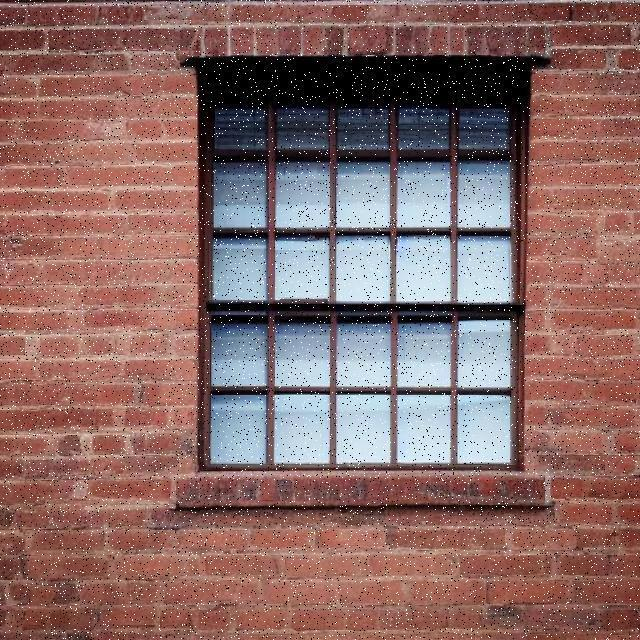window: (197, 57, 532, 470)
